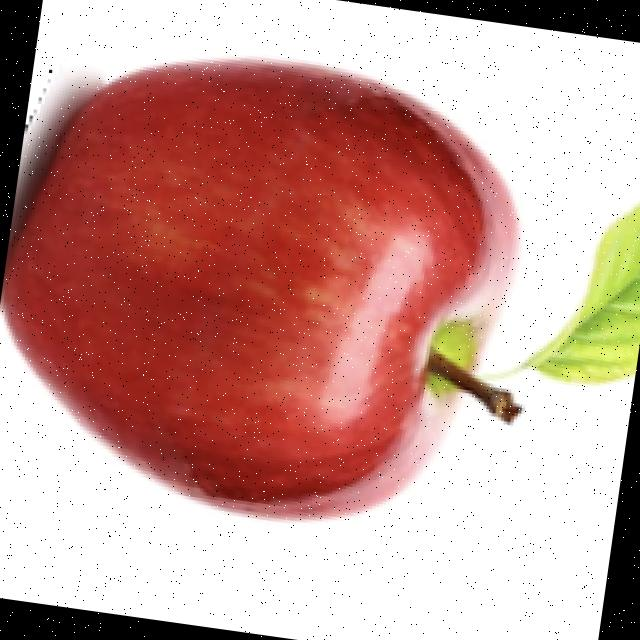apple: (0, 54, 553, 527)
